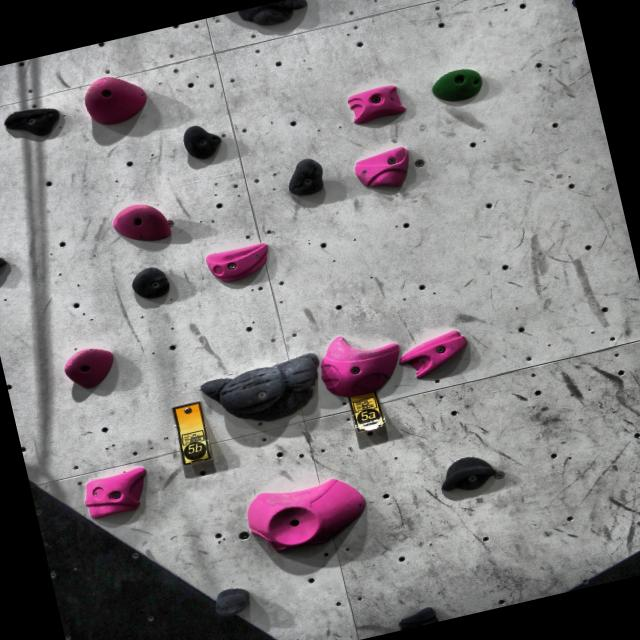Hold: (228, 463, 398, 562), (186, 349, 327, 437), (311, 325, 411, 407), (75, 458, 160, 530), (394, 320, 476, 388), (74, 69, 159, 126), (204, 229, 278, 290), (108, 194, 183, 254), (59, 337, 134, 394), (354, 139, 414, 205), (337, 74, 410, 128), (433, 441, 502, 498), (418, 60, 498, 107), (164, 114, 238, 162), (198, 578, 268, 626), (114, 260, 184, 306), (275, 148, 333, 203), (242, 0, 327, 36), (0, 96, 60, 146), (392, 597, 447, 630), (0, 236, 14, 294)
